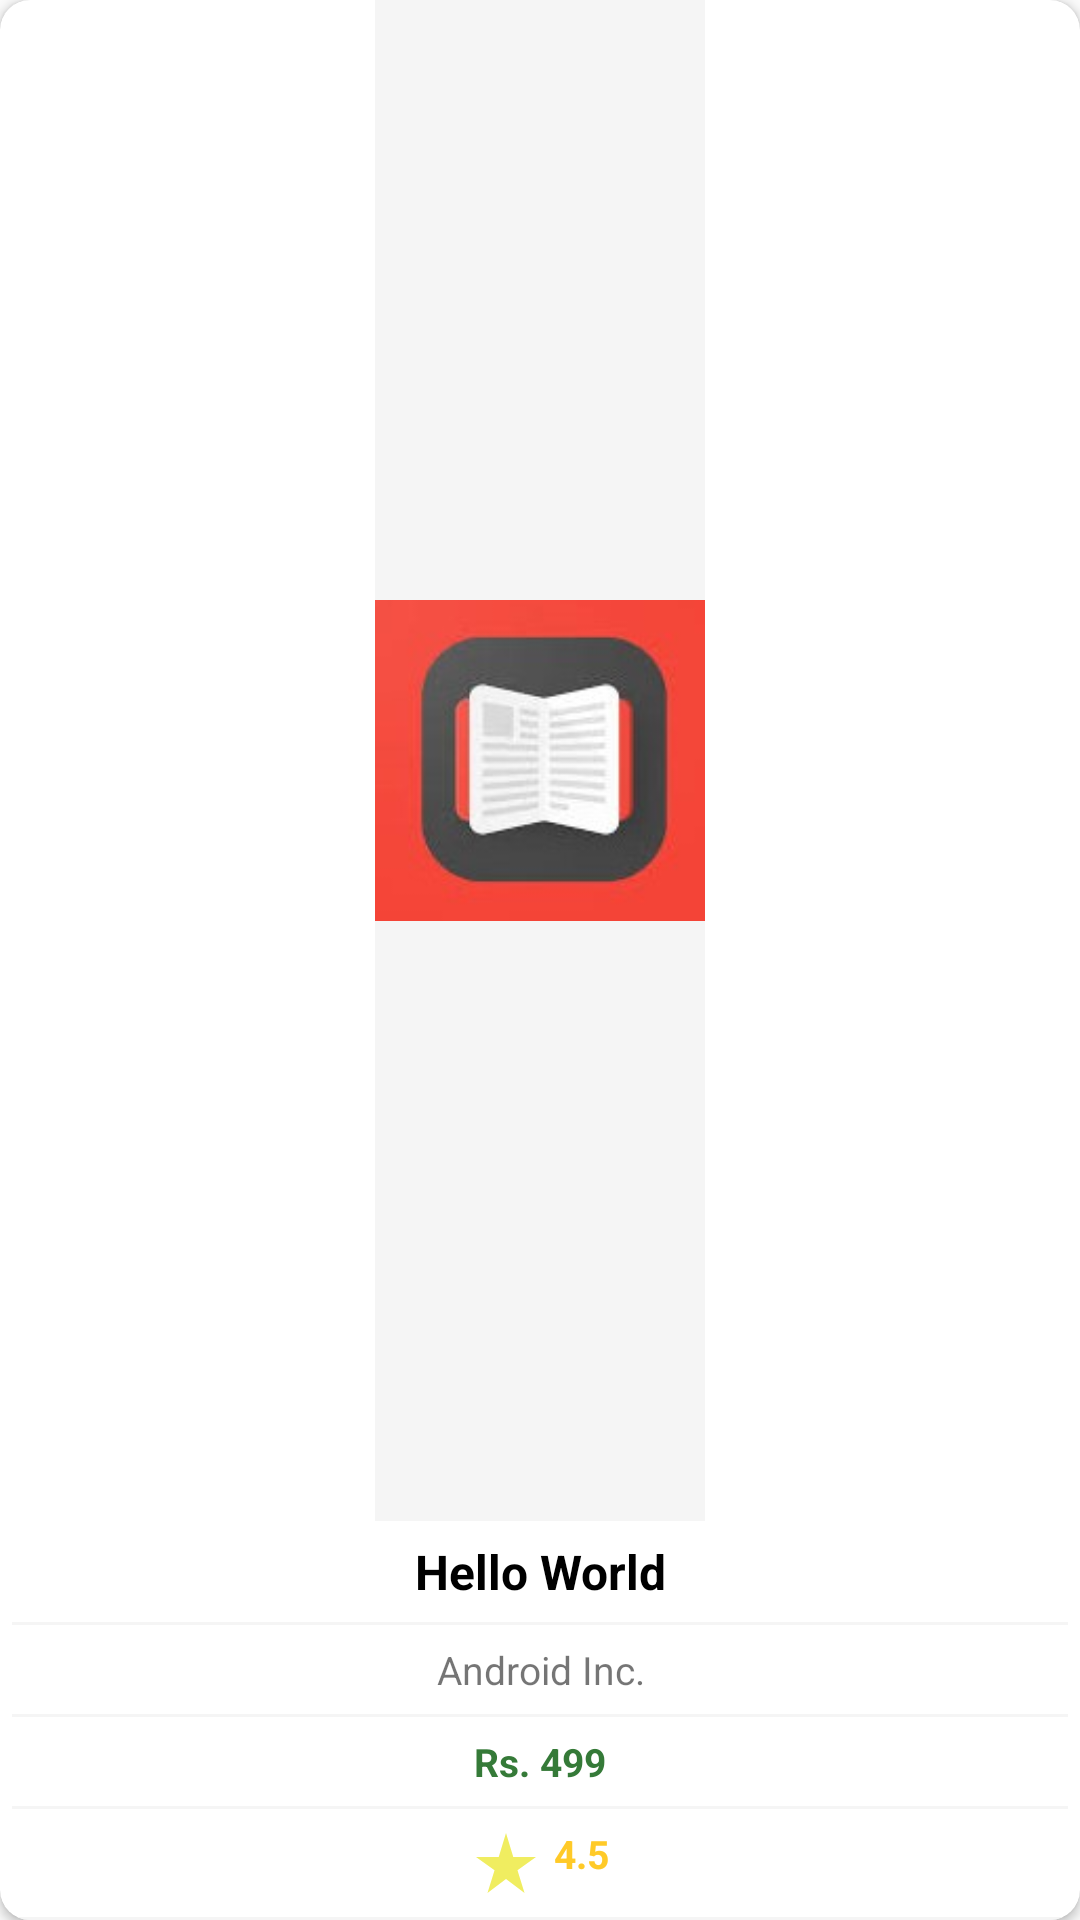

Screen size 1080x1920. Icon name, then its center in pixels as (x,y):
book: (540,760)
